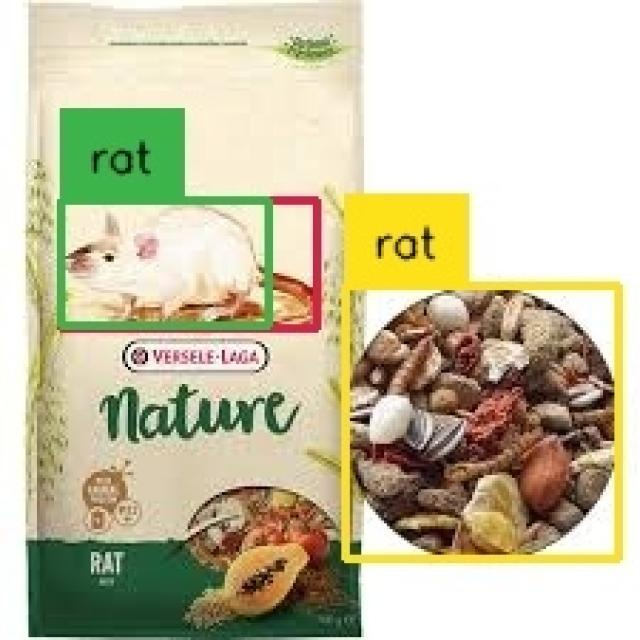rat: (346, 288, 618, 560), (62, 200, 316, 328), (62, 202, 268, 327)
